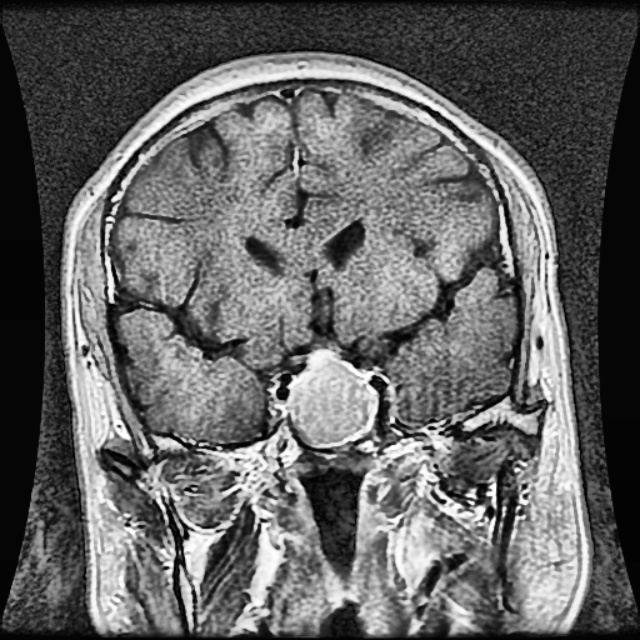Pituitary: (285, 350, 378, 447)
